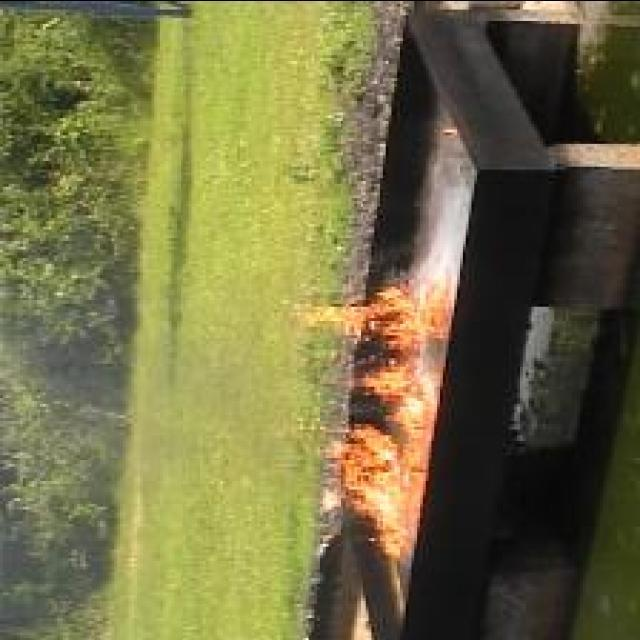Fire: (292, 278, 448, 436), (284, 426, 410, 558)
